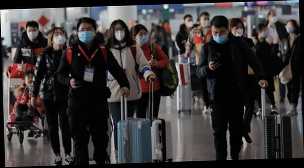with_mask: (77, 26, 94, 45), (52, 30, 67, 47), (211, 30, 228, 44), (113, 26, 126, 42), (137, 31, 150, 46), (26, 28, 38, 40), (233, 25, 244, 38), (201, 16, 211, 29), (285, 23, 294, 34), (260, 29, 269, 39), (270, 14, 278, 24), (186, 18, 194, 28)
without_mask: (25, 75, 34, 88)
